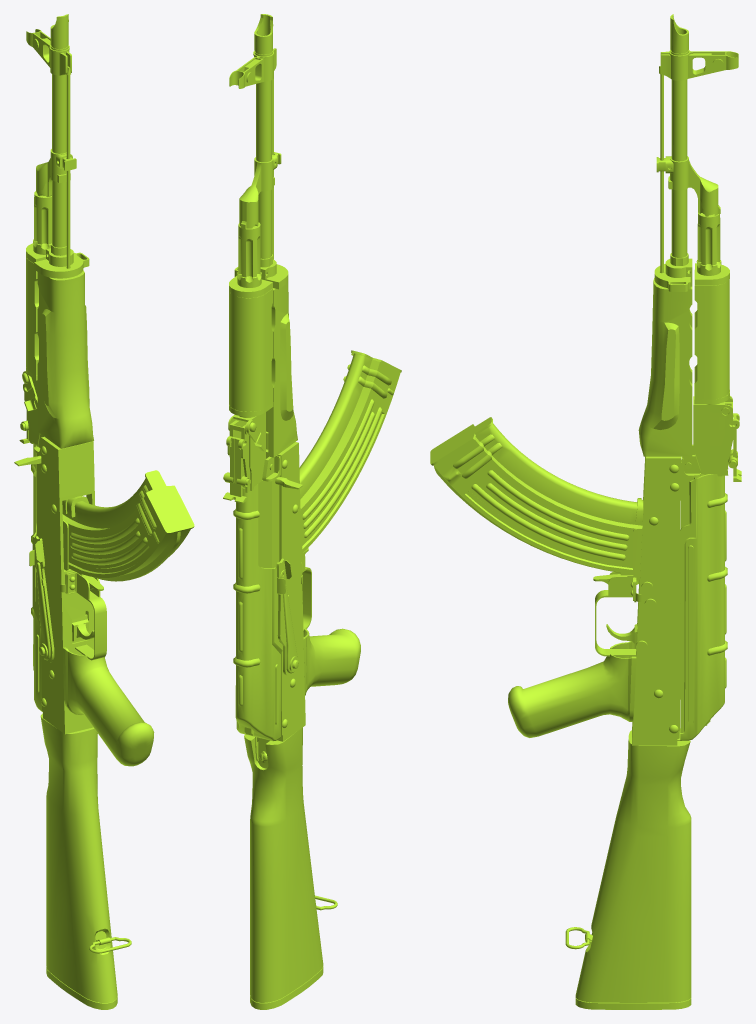
The picture shows the model from 3 angles, left to right: view 1: azimuth 30°, elevation 25°; view 2: azimuth 150°, elevation 25°; view 3: azimuth 270°, elevation 25°; orthographic projection. The views are drawn at different scales.
Visible parts, largest first — view 1: Merged; view 2: Merged; view 3: Merged.
Part boxes in pixels (box(x1,y1,x2,y2)): Merged: box(14, 14, 194, 1009); Merged: box(223, 14, 401, 1009); Merged: box(430, 14, 741, 1009).
Bounding box in the file's own units: 0.0623 × 0.88 × 0.2515.
